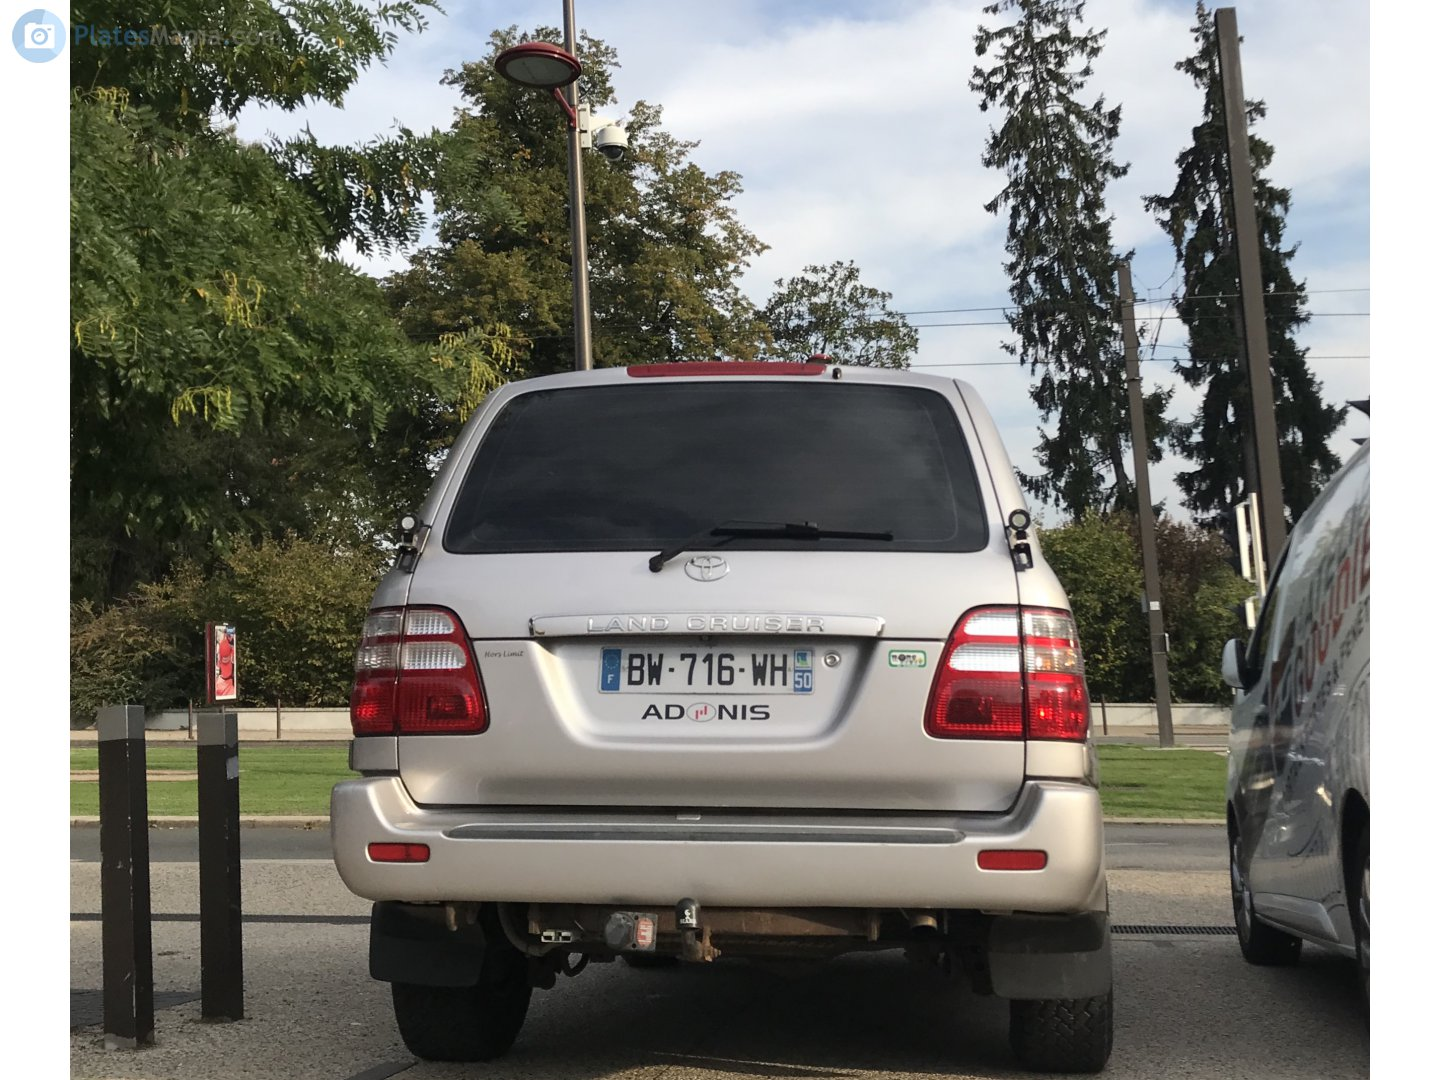licence plate: (596, 642, 817, 697)
